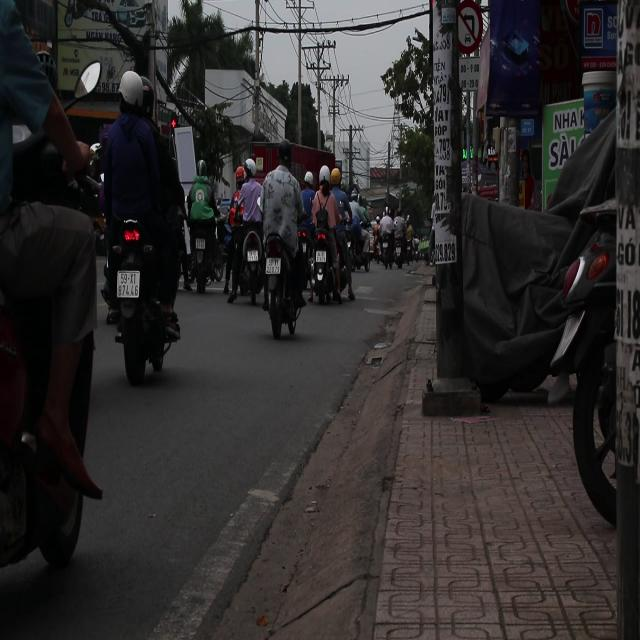motorbike: (100, 210, 178, 384), (261, 232, 303, 342), (184, 191, 227, 295), (311, 225, 339, 324)
